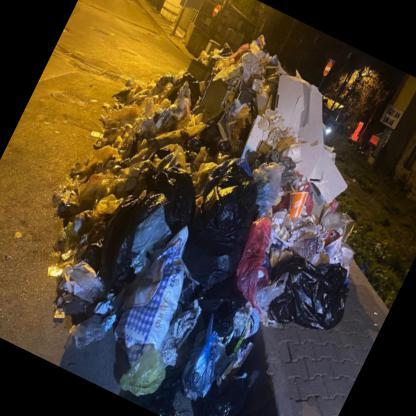Garbage: (89, 161, 283, 415), (217, 161, 392, 340), (196, 51, 352, 232), (74, 88, 205, 251), (217, 42, 265, 87)
